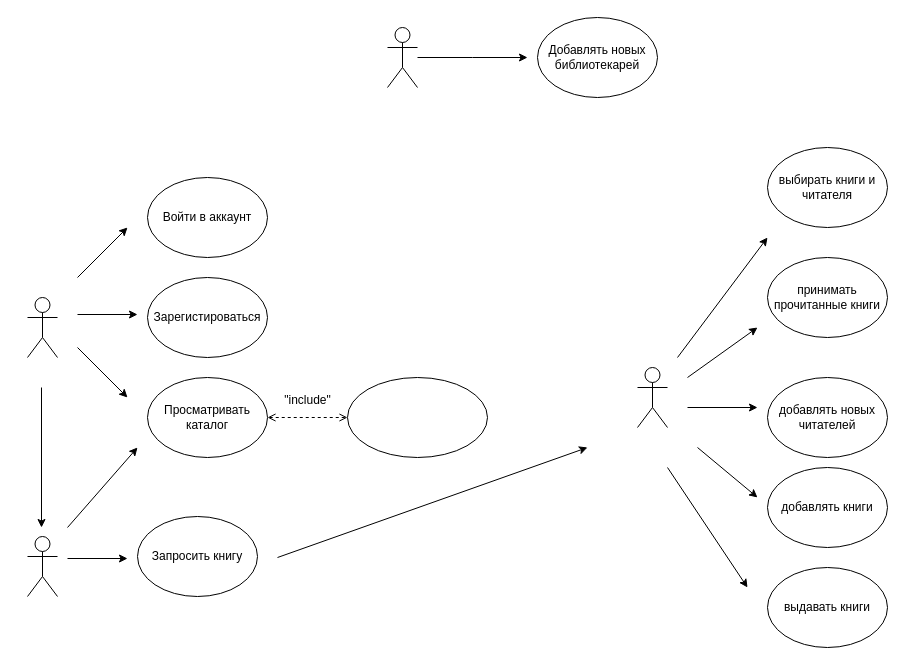
Some shapes in this 905 by 665 pixel diagram are drawn without their labels. Each missing label, with the centre of its shape:
администратор: point (402, 57)
библиотекарь: point (652, 397)
гость: point (42, 327)
Просматривать информацию о книге: point (417, 417)
читатель: point (42, 566)
